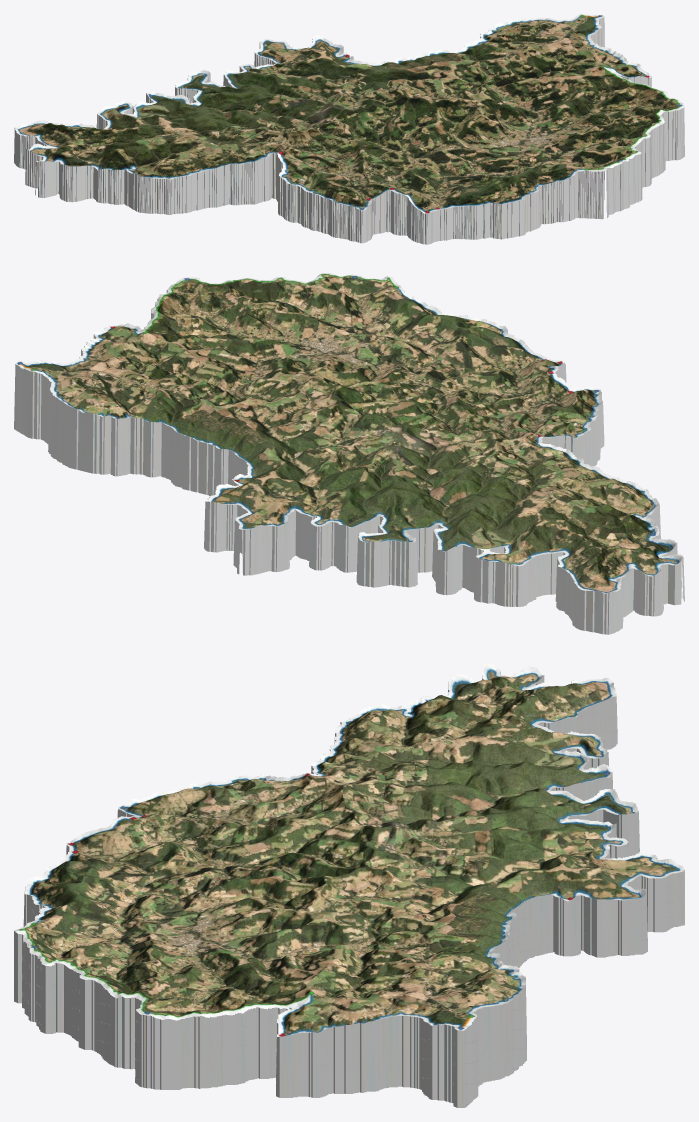
3 renders of one model, top to bottom at view 1: azimuth 30°, elevation 25°; view 2: azimuth 150°, elevation 25°; view 3: azimuth 270°, elevation 25°, orthographic. The views are drawn at different scales.
Size of the model in its own units: 1 by 0.0945 by 0.7213.
1 material, 1 textured.
